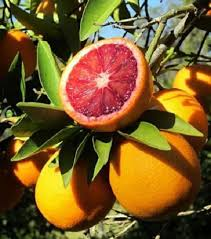orange: (107, 132, 202, 222), (28, 143, 115, 228), (150, 85, 209, 152), (8, 120, 59, 188)
